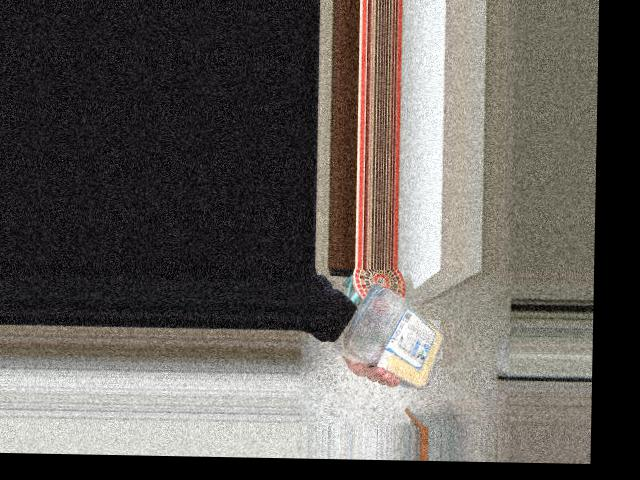cheese: (346, 281, 454, 377)
